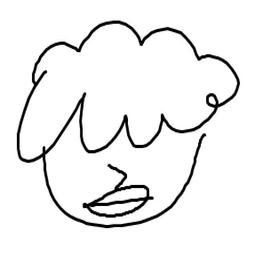open_mouth: (83, 183, 157, 220)
pointy_nose: (103, 161, 134, 188)
